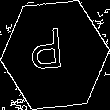P_S: (36, 28, 74, 82)
